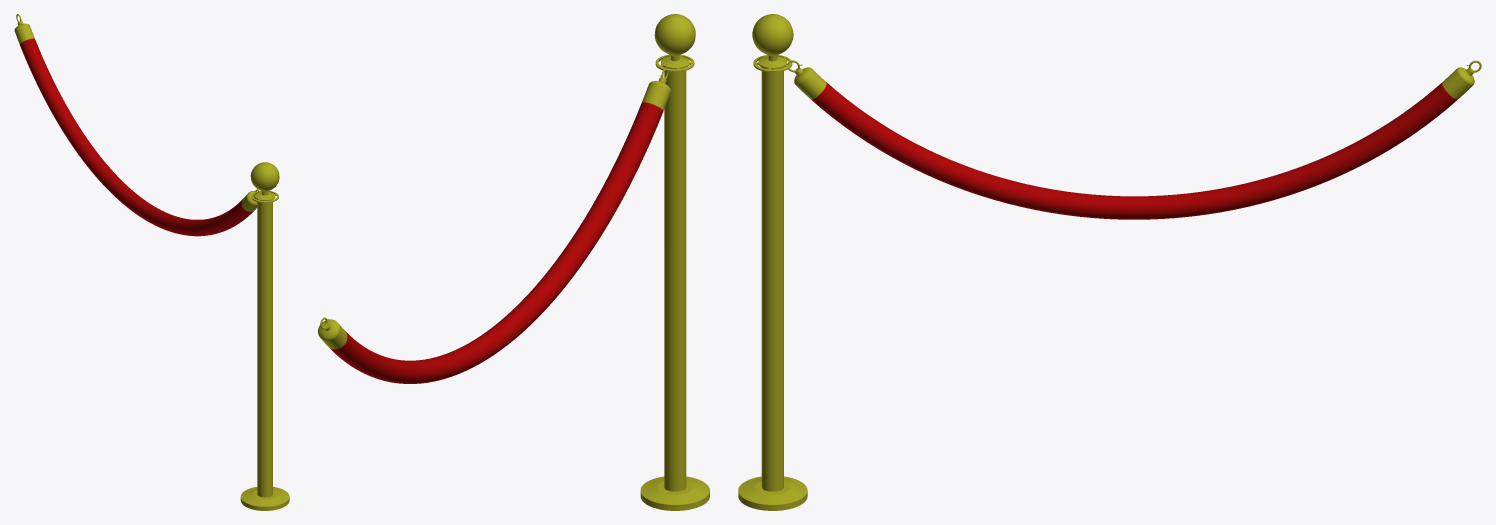
File: RopeGuardEnd.fbx
The picture shows the model from 3 angles, left to right: view 1: azimuth 30°, elevation 25°; view 2: azimuth 150°, elevation 25°; view 3: azimuth 270°, elevation 25°; orthographic projection. The views are drawn at different scales.
Parts seen in each view (by area): view 1: pCylinder18; view 2: pCylinder18; view 3: pCylinder18.
Boxes of the visible parts, box(x1,y1,x2,y2) form: pCylinder18: box(14, 14, 289, 510); pCylinder18: box(318, 14, 709, 510); pCylinder18: box(738, 14, 1481, 510).
Size of the model in its own units: 1.87 by 14.31 by 20.07.
